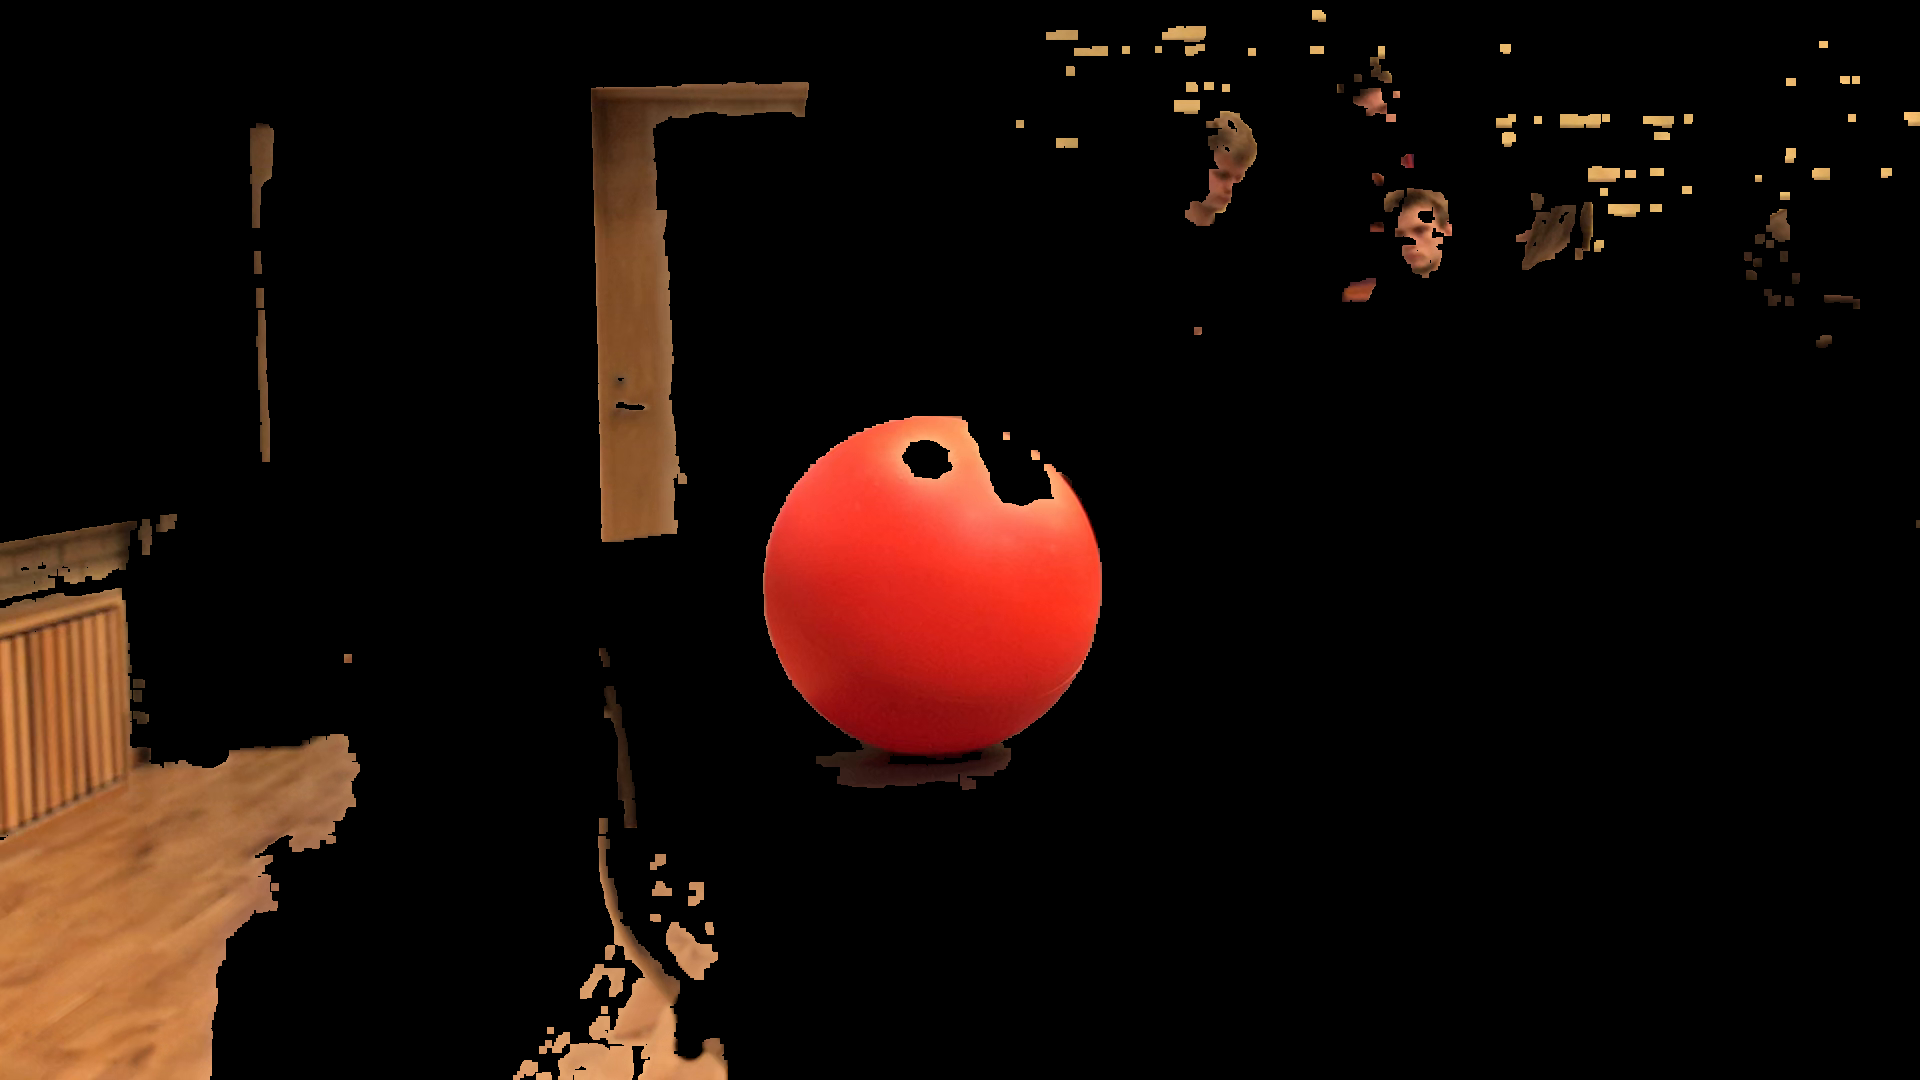Ball: (765, 419, 1104, 753)
